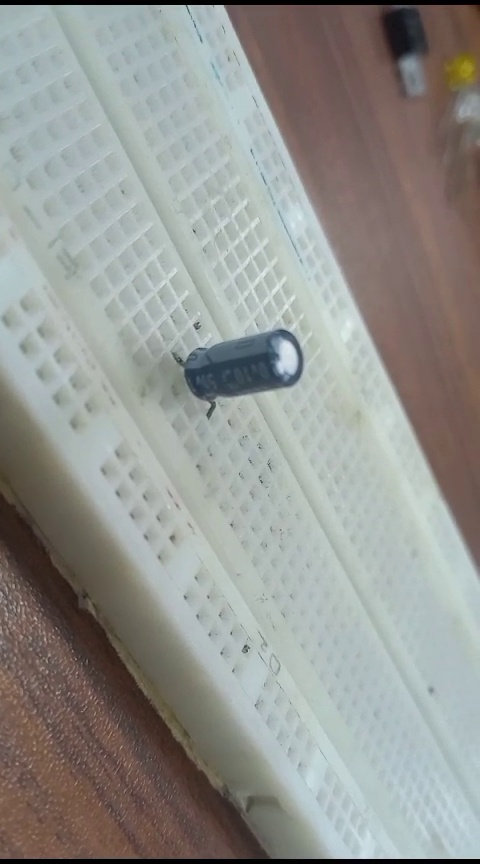capacitor: (160, 316, 303, 423)
